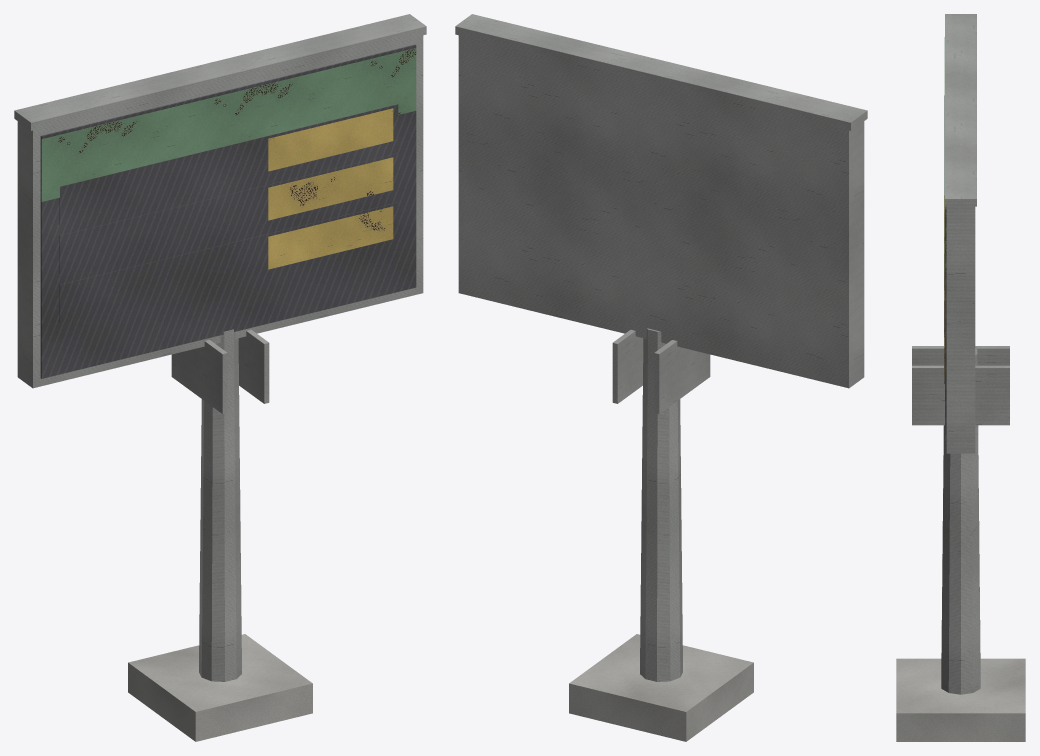
Rendered from roadsign.glb.
3 renders of one model, left to right at view 1: azimuth 30°, elevation 25°; view 2: azimuth 150°, elevation 25°; view 3: azimuth 270°, elevation 25°, orthographic. The views are drawn at different scales.
Parts seen in each view (by area): view 1: NC_roadsign; view 2: NC_roadsign; view 3: NC_roadsign.
Boxes of the visible parts, left/top/right/bottom form: NC_roadsign: left=14, top=14, right=426, bottom=741; NC_roadsign: left=455, top=14, right=867, bottom=741; NC_roadsign: left=896, top=14, right=1025, bottom=741.
Size of the model in its own units: 3.04 by 4.66 by 0.9.
5 materials, 5 textured.
